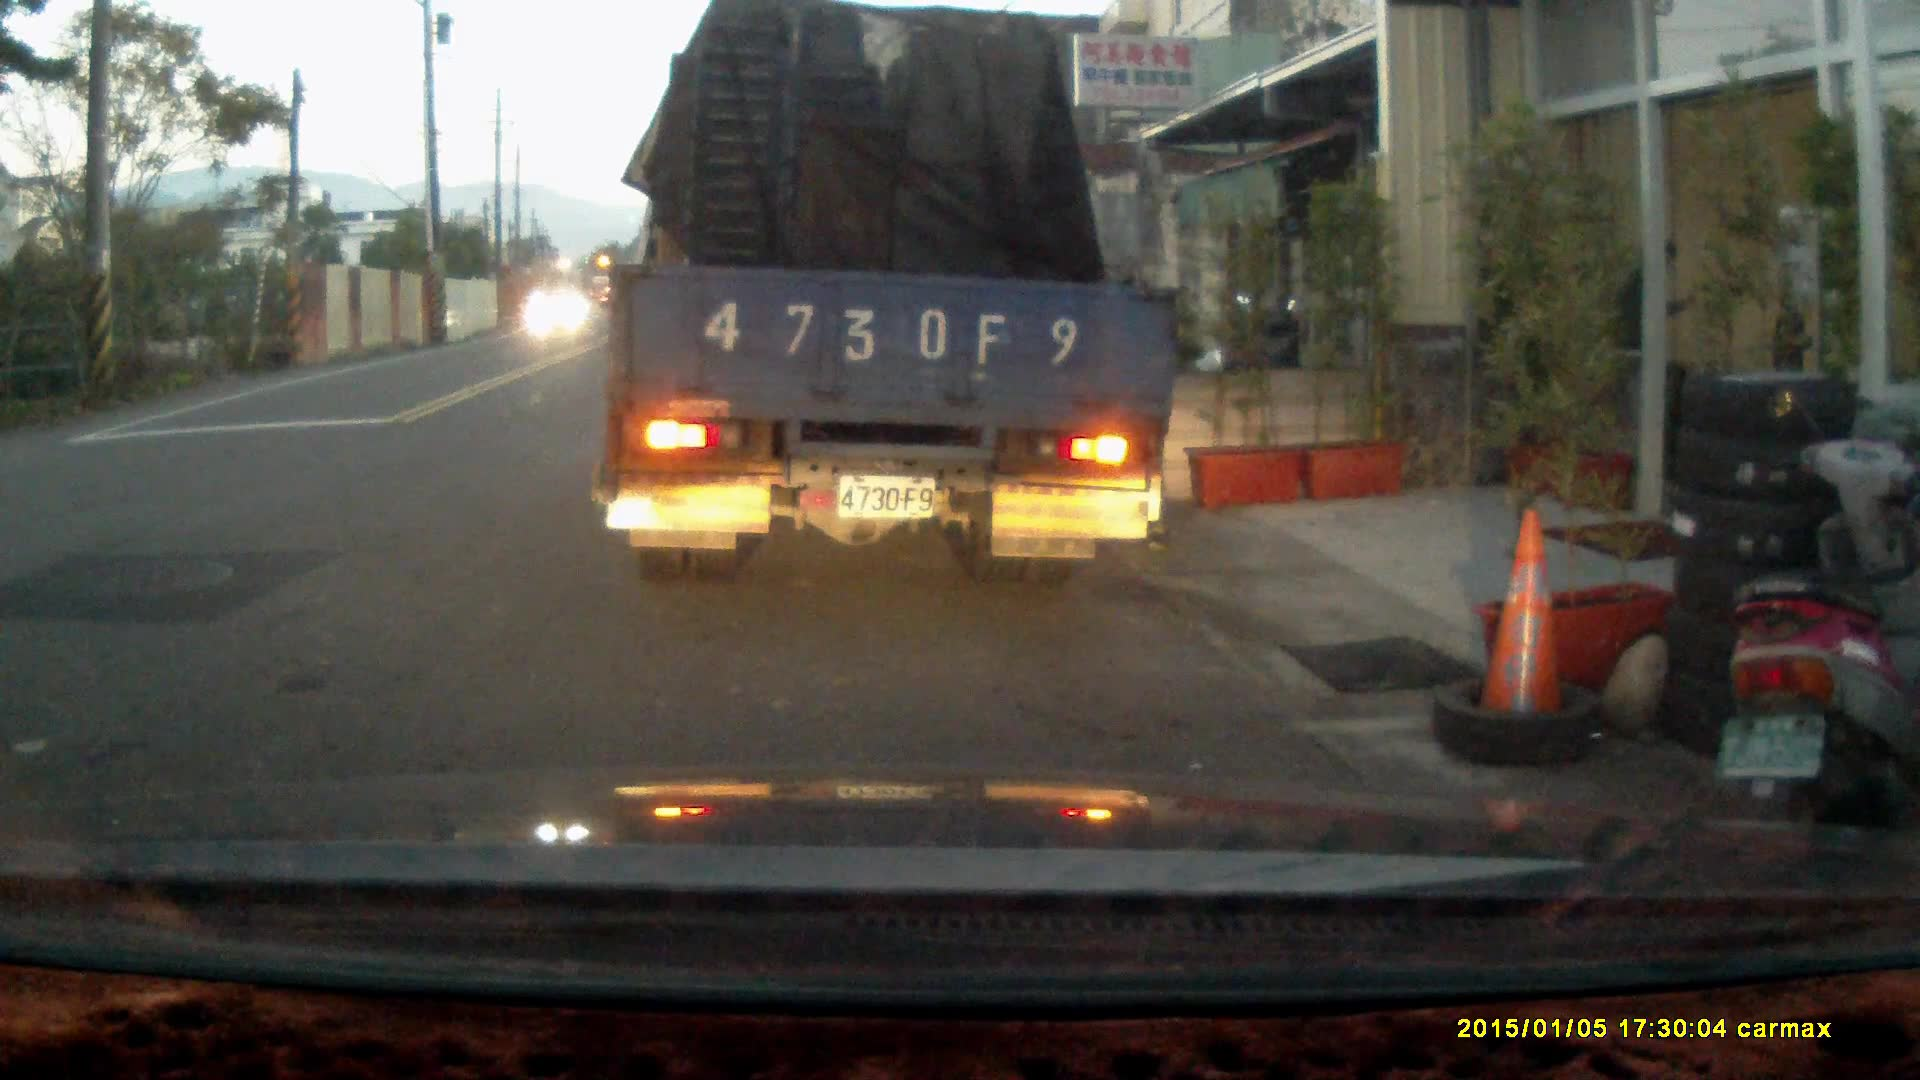pedestrian: (1613, 233, 1684, 478), (1765, 231, 1831, 447)
vehicle: (605, 23, 1188, 572)
